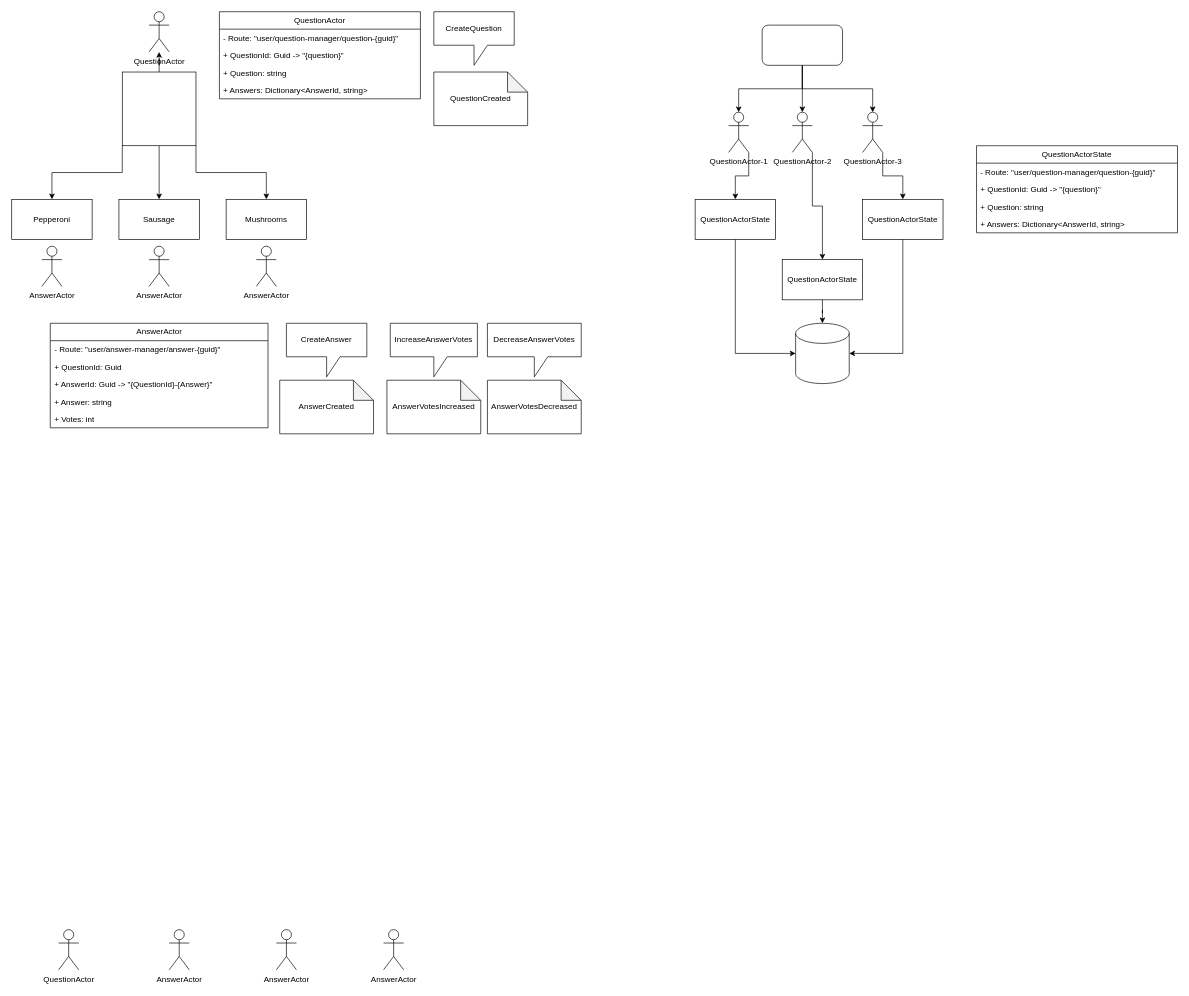
Image size: 1189x996. Some labels were removed from this diagram. Here are the shapes that lost their labels. From the top down, the box of each, then its label:
(761, 24, 843, 65): QuestionManager
(122, 71, 196, 146): What's your favorite pizza topping?
(795, 323, 849, 384): EventJournal
